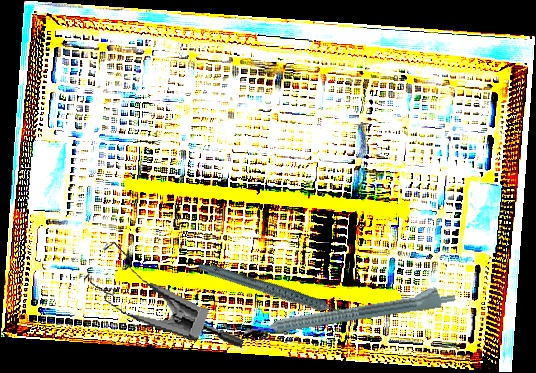Handpiece: (196, 233, 351, 352), (241, 282, 457, 339)
Speculum: (76, 237, 257, 351)
